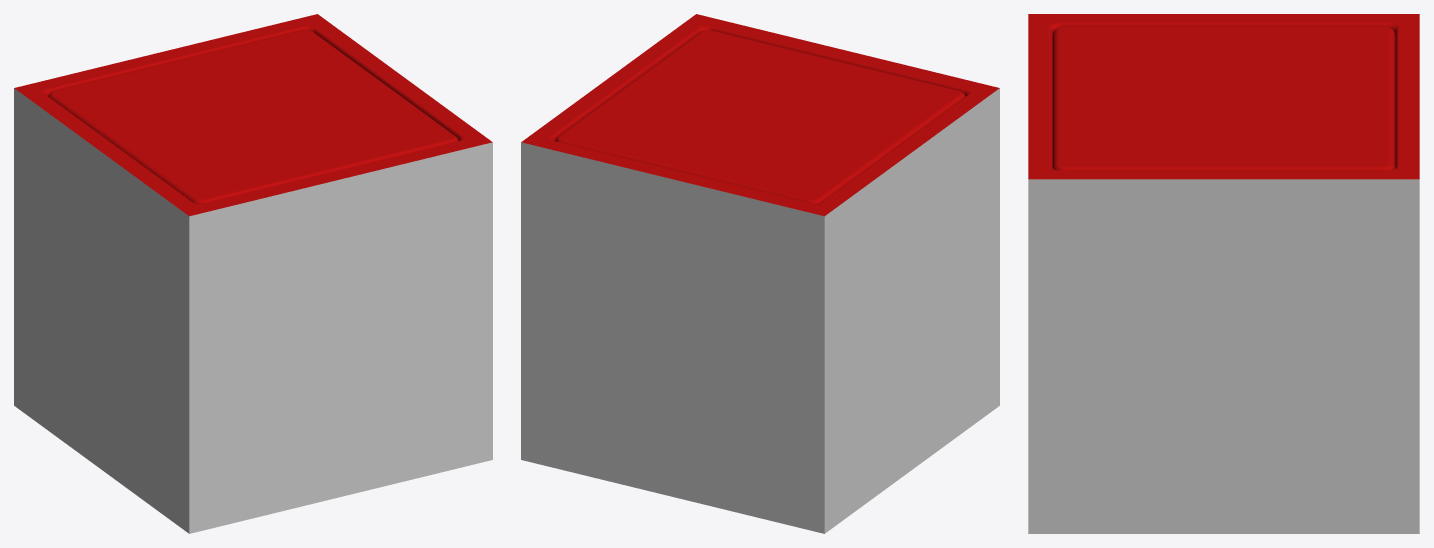
The model's file is wall_red.glb.
3 views of the same model, side by side, from view 1: azimuth 30°, elevation 25°; view 2: azimuth 150°, elevation 25°; view 3: azimuth 270°, elevation 25° (orthographic). The views are drawn at different scales.
Parts seen in each view (by area): view 1: Cube.004, Cube; view 2: Cube.004, Cube; view 3: Cube.004, Cube.
Part boxes in pixels (x1,y1,x2,y2): Cube.004: (14, 14, 492, 533); Cube: (48, 30, 458, 203); Cube.004: (521, 14, 999, 533); Cube: (555, 30, 965, 203); Cube.004: (1028, 14, 1419, 533); Cube: (1052, 26, 1395, 170).
Size of the model in its own units: 1 by 1 by 1.
